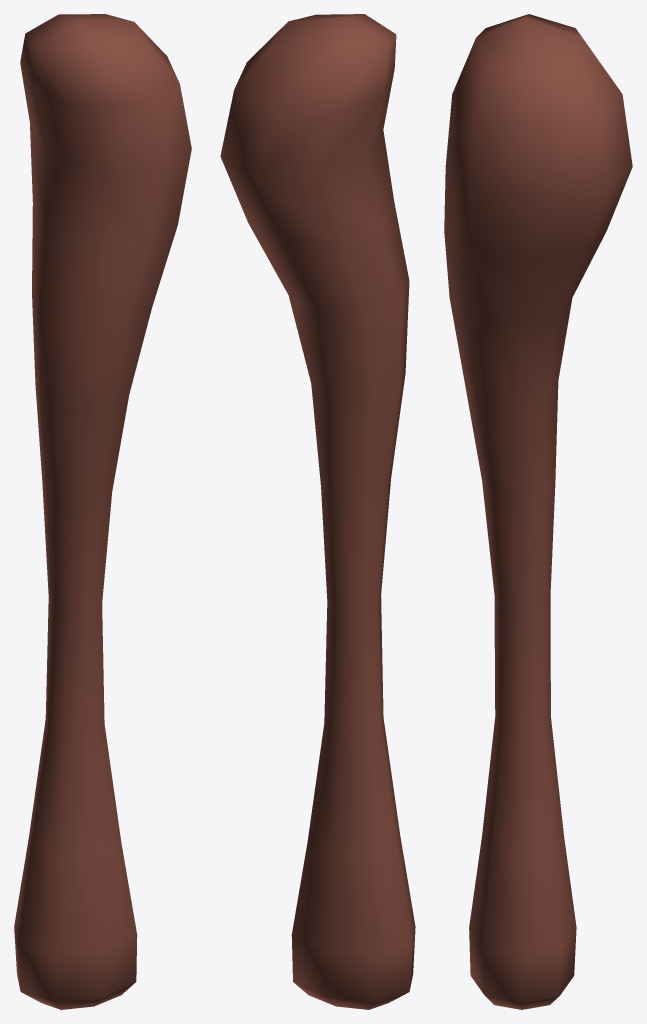
File: Stick.fbx
3 views of the same model, side by side, from view 1: azimuth 30°, elevation 25°; view 2: azimuth 150°, elevation 25°; view 3: azimuth 270°, elevation 25° (orthographic).
Parts seen in each view (by area): view 1: Cube.009; view 2: Cube.009; view 3: Cube.009.
Part boxes in pixels (x1,y1,x2,y2): Cube.009: [14, 14, 191, 1009]; Cube.009: [220, 14, 415, 1009]; Cube.009: [444, 14, 632, 1009].
Size of the model in its own units: 150 by 840 by 146.
